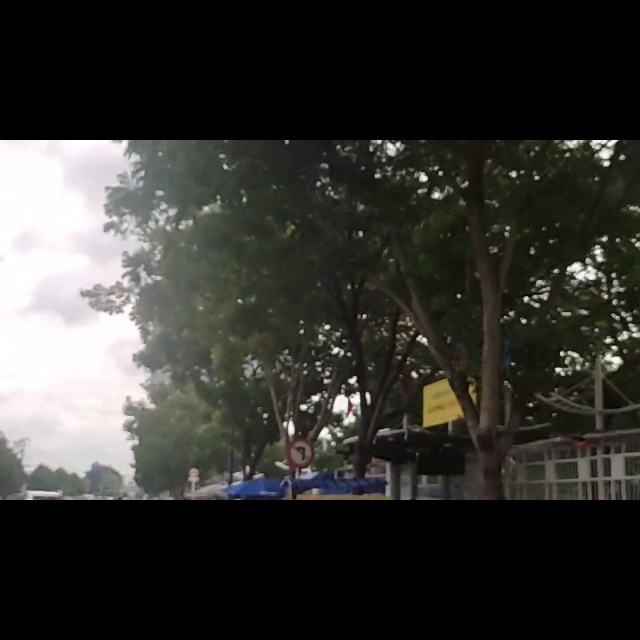bien_cam: (285, 533, 312, 582)
